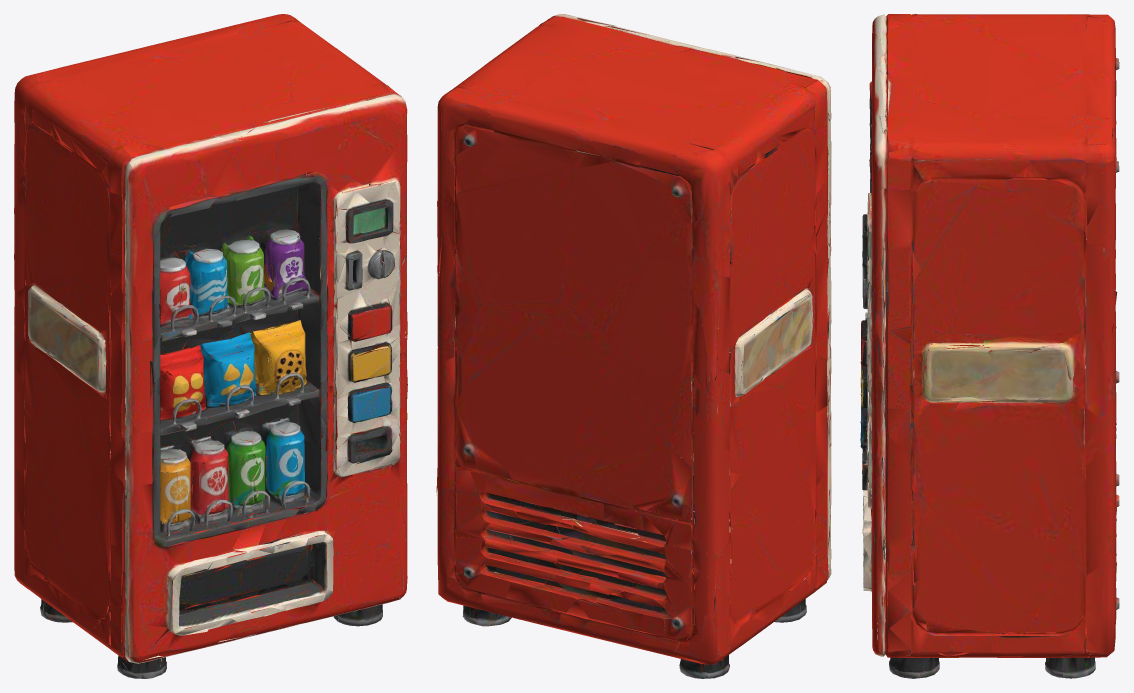
The model's file is vending.glb.
3 views of the same model, side by side, from view 1: azimuth 30°, elevation 25°; view 2: azimuth 150°, elevation 25°; view 3: azimuth 270°, elevation 25° (orthographic).
Parts seen in each view (by area): view 1: Mesh_0; view 2: Mesh_0; view 3: Mesh_0.
Part boxes in pixels (x1,y1,x2,y2): Mesh_0: (14, 14, 407, 678); Mesh_0: (436, 14, 831, 678); Mesh_0: (860, 14, 1119, 678).
Bounding box in the file's own units: 1 × 1.74 × 0.7595.
Materials: 1 (1 with a texture image).
